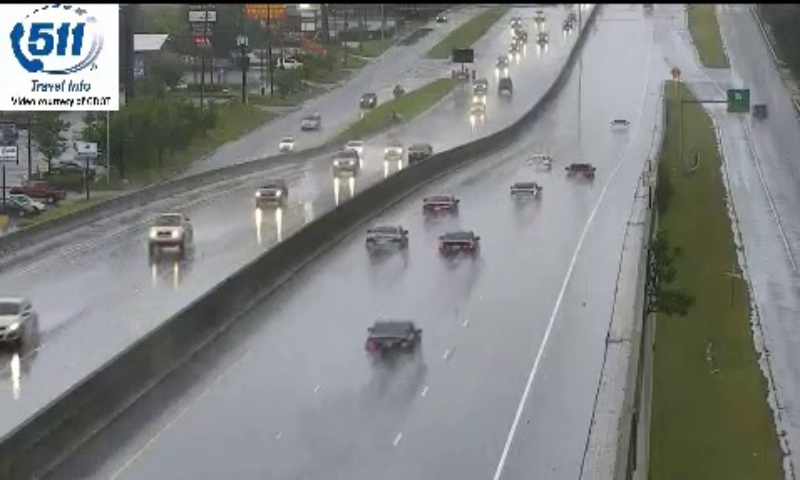car: (365, 320, 422, 361), (365, 222, 409, 255), (438, 230, 478, 262), (422, 193, 457, 220), (510, 181, 542, 207), (566, 161, 595, 184)
